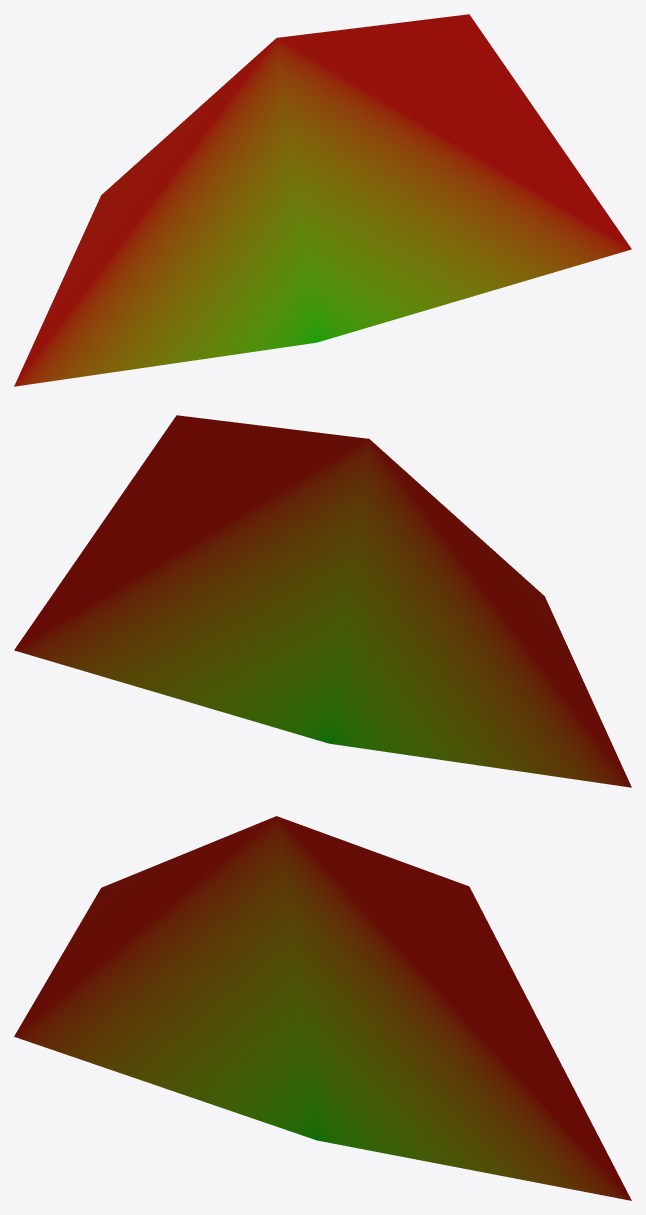
The model's file is Var23_LOD3.fbx.
3 views of the same model, one above another, from view 1: azimuth 30°, elevation 25°; view 2: azimuth 150°, elevation 25°; view 3: azimuth 330°, elevation 25° (orthographic).
Parts seen in each view (by area): view 1: _4b52_Var23_LOD3; view 2: _4b52_Var23_LOD3; view 3: _4b52_Var23_LOD3.
Part boxes in pixels (left/top/right/bottom): _4b52_Var23_LOD3: left=14, top=14, right=631, bottom=386; _4b52_Var23_LOD3: left=14, top=415, right=631, bottom=787; _4b52_Var23_LOD3: left=14, top=816, right=631, bottom=1200.
Size of the model in its own units: 17.63 by 8.58 by 3.64e-12.
